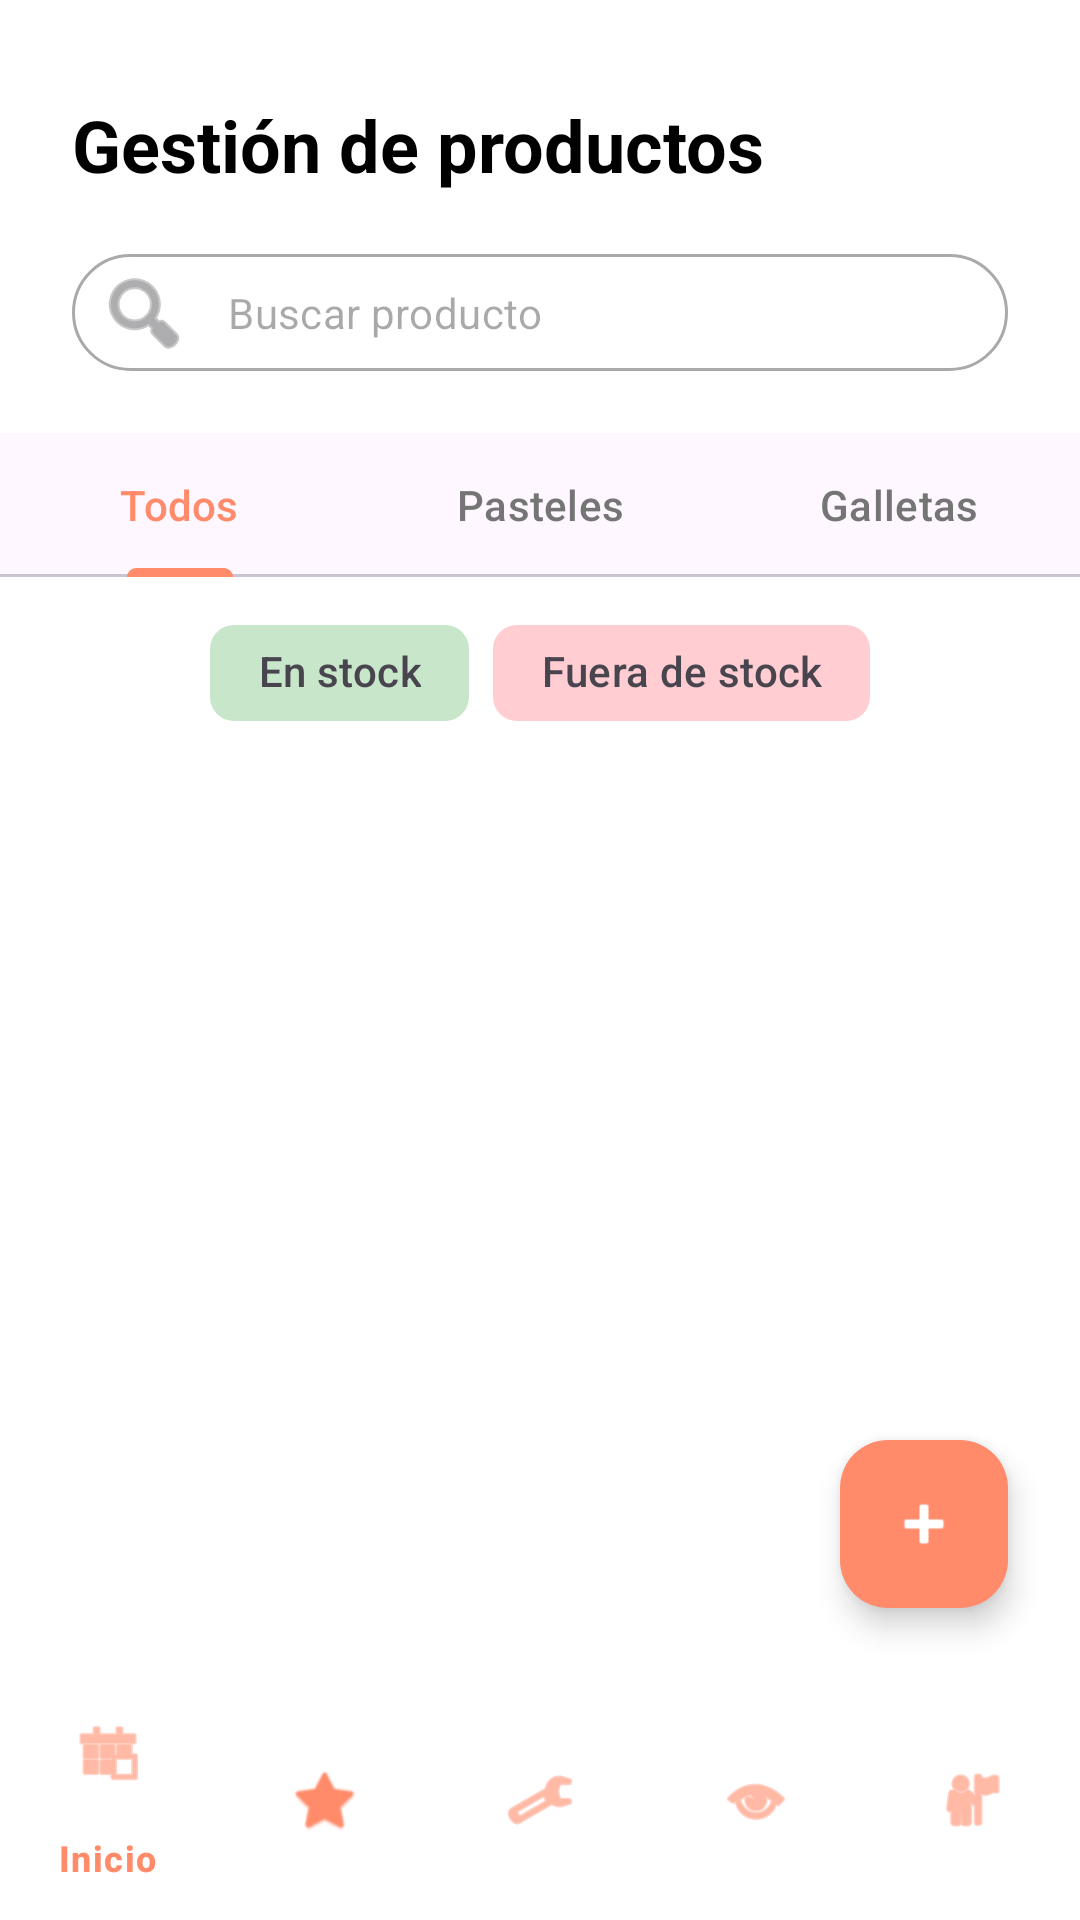

Named icons in this screenshot (1080×1920) and their bounding boxes, (x1=x1, y1=y1, x2=x2, y2=y2):
Agregar producto: (x1=840, y1=1440, x2=1008, y2=1608)
